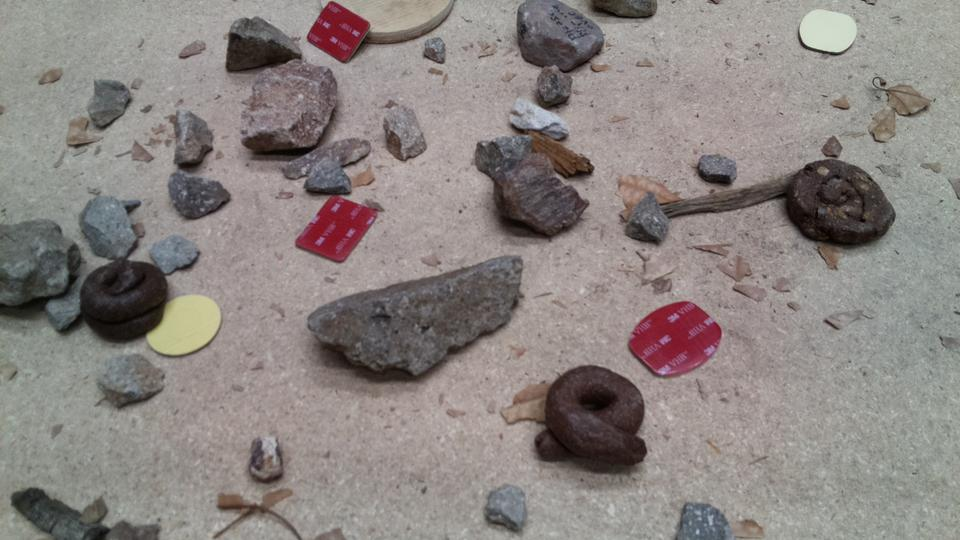poop: (531, 361, 655, 468), (781, 155, 900, 249), (79, 258, 166, 342)
